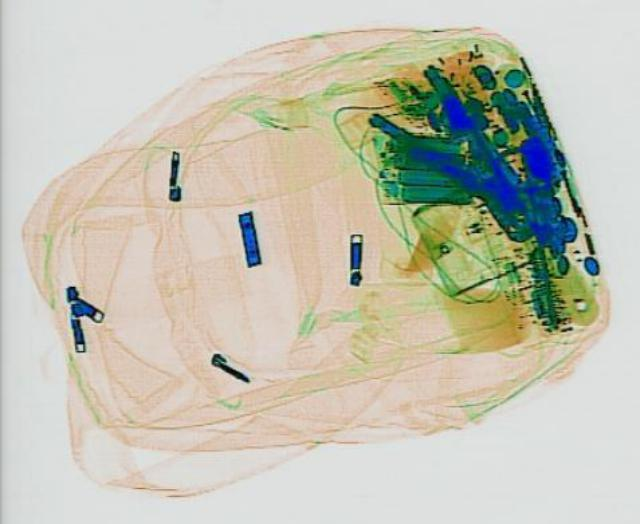Pliers: (358, 69, 574, 254)
